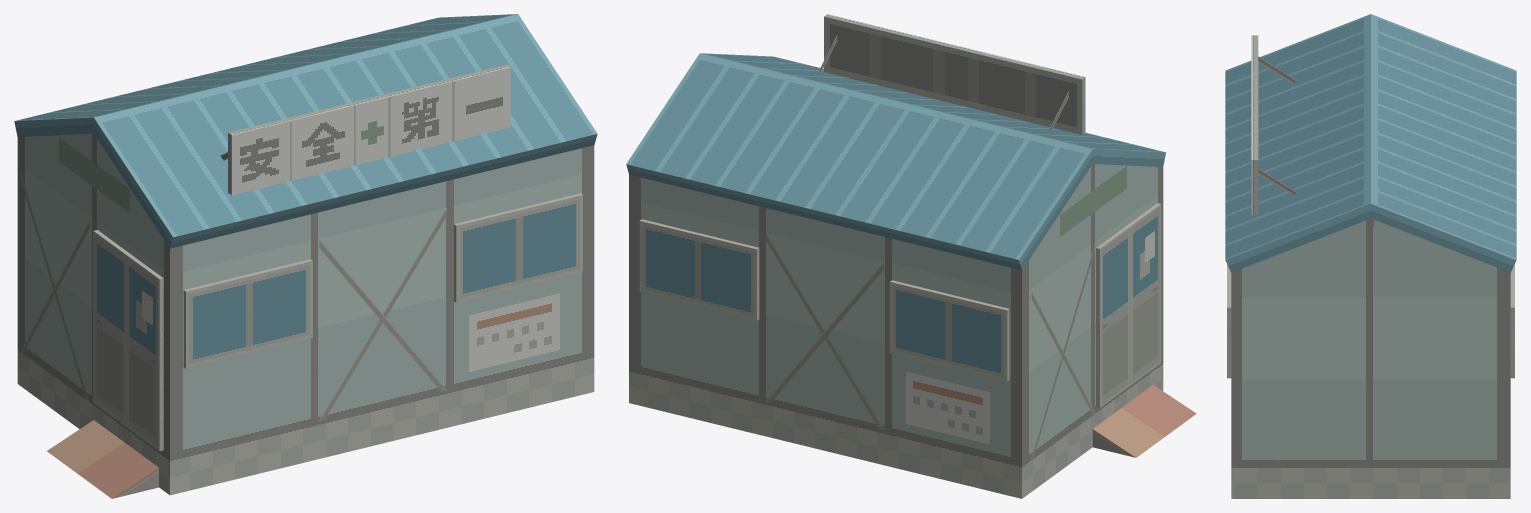
Rendered from 00f2_Prefab_House.glb.
The picture shows the model from 3 angles, left to right: view 1: azimuth 30°, elevation 25°; view 2: azimuth 150°, elevation 25°; view 3: azimuth 270°, elevation 25°; orthographic projection. The views are drawn at different scales.
Parts seen in each view (by area): view 1: part_0; view 2: part_0; view 3: part_0.
Part boxes in pixels (x1,y1,x2,y2): part_0: (14, 14, 597, 498); part_0: (626, 14, 1196, 498); part_0: (1225, 14, 1516, 498).
Bounding box in the file's own units: 6.64 × 4.5 × 3.88.
1 material, 1 textured.
